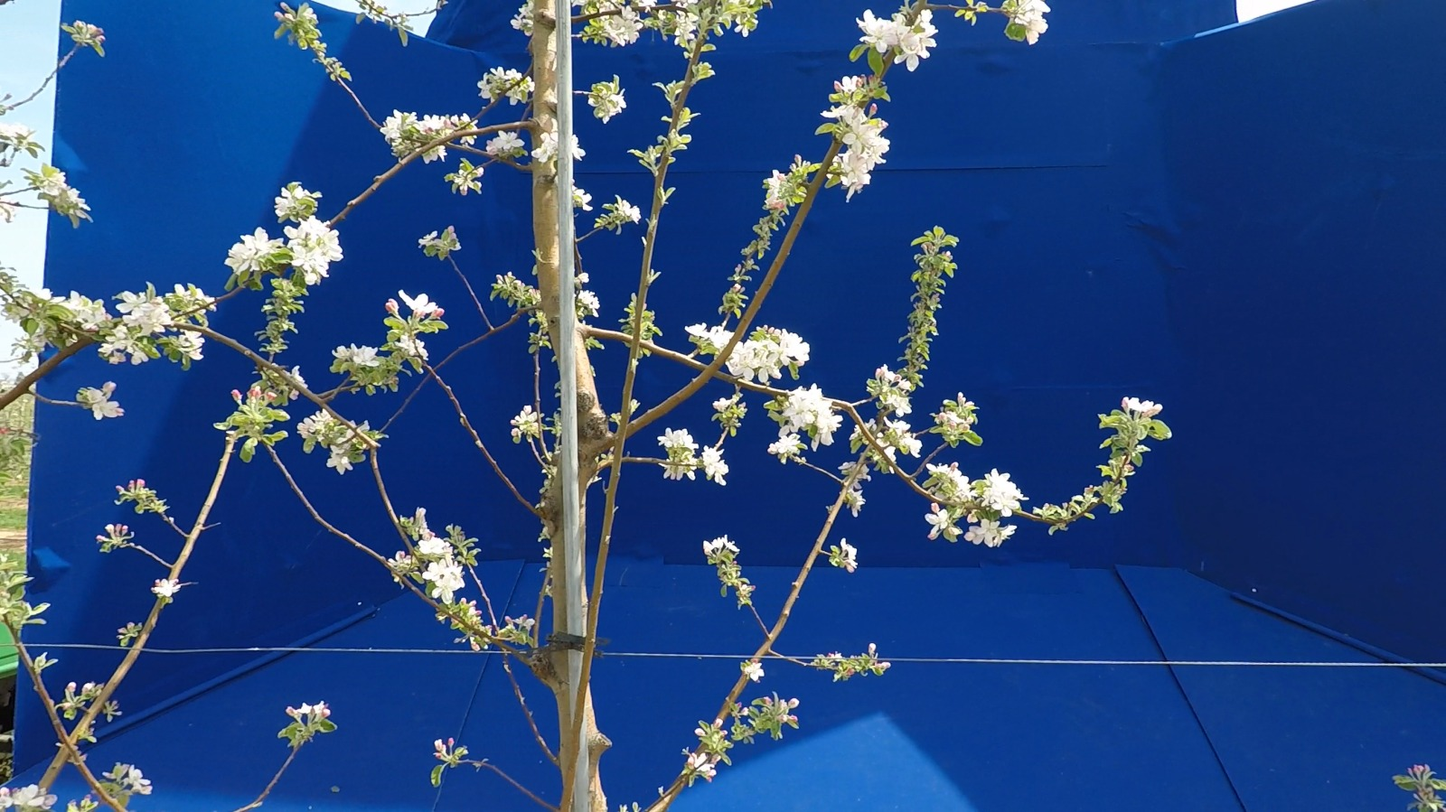flower: (225, 182, 343, 291), (821, 103, 890, 202), (99, 285, 174, 365), (857, 0, 938, 72), (767, 384, 843, 454), (726, 330, 810, 384), (380, 110, 471, 146), (418, 537, 465, 605), (981, 469, 1040, 518), (599, 0, 651, 48), (50, 292, 113, 331), (925, 457, 979, 502), (39, 167, 90, 211), (81, 382, 124, 420), (685, 321, 736, 353), (1015, 0, 1051, 45), (478, 68, 523, 104), (884, 417, 923, 458), (658, 428, 699, 466), (0, 785, 57, 812), (964, 518, 1017, 547), (395, 331, 434, 369), (1122, 397, 1162, 430), (763, 171, 793, 214), (297, 409, 334, 443), (532, 118, 559, 163), (399, 291, 445, 316), (595, 89, 626, 126), (841, 539, 878, 569), (333, 344, 380, 367), (702, 446, 728, 486), (925, 503, 953, 540), (675, 11, 700, 52), (486, 131, 524, 156), (506, 77, 538, 105), (122, 766, 152, 795), (327, 443, 352, 475), (0, 124, 33, 148), (179, 330, 205, 360), (882, 365, 912, 391), (880, 393, 912, 417), (615, 196, 641, 224), (659, 463, 699, 481), (511, 0, 534, 30), (940, 411, 973, 429), (578, 291, 600, 317), (713, 395, 739, 416), (835, 76, 862, 95), (153, 580, 183, 597), (284, 367, 308, 388), (422, 145, 447, 164), (574, 190, 594, 211), (570, 135, 586, 161), (314, 702, 331, 726), (635, 0, 658, 14), (29, 287, 52, 301), (175, 285, 192, 303), (688, 753, 708, 768), (736, 14, 749, 37), (697, 763, 717, 776), (885, 446, 897, 464), (294, 704, 312, 714), (578, 274, 589, 284)
